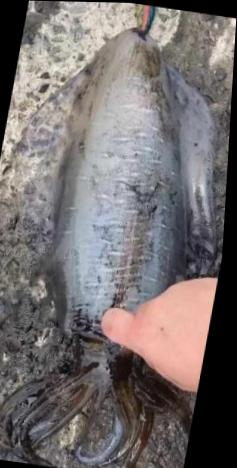Cephalopod: (10, 28, 219, 468)
